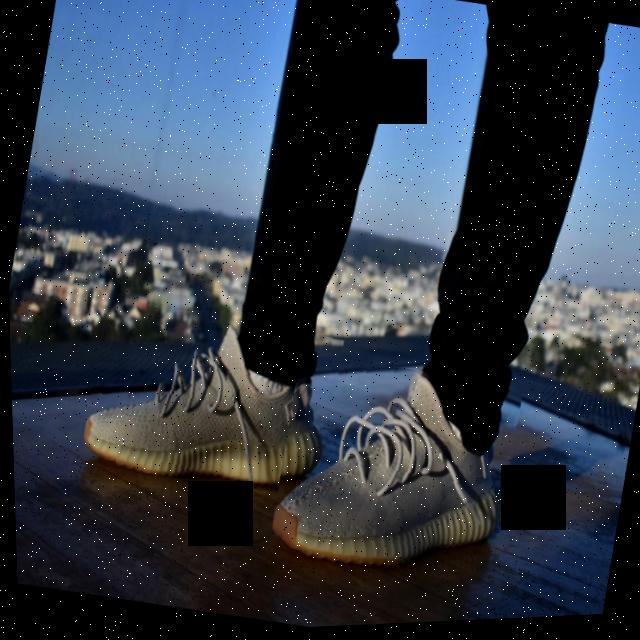shoe: (259, 345, 526, 599), (72, 289, 347, 510)
